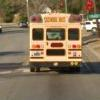Bus: (25, 6, 83, 75)
